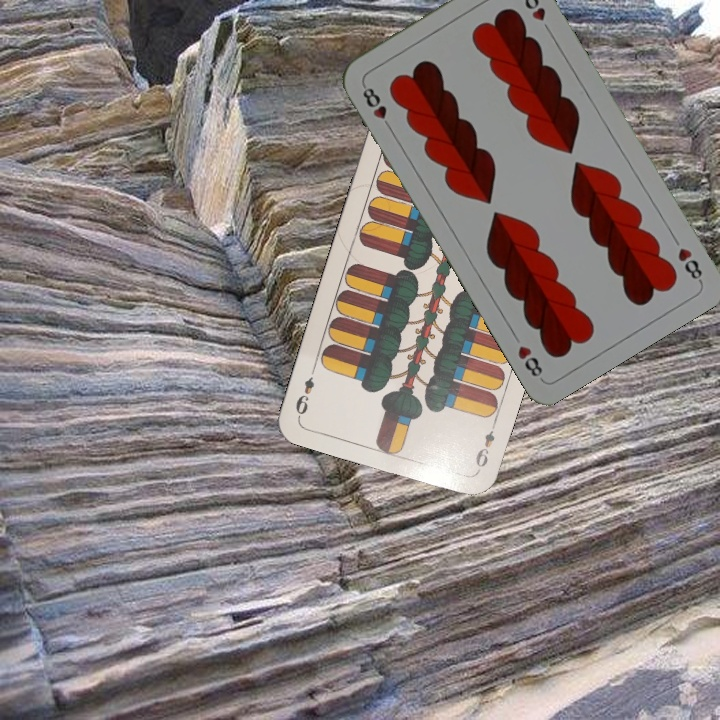E9: (471, 417, 499, 470)
H8: (358, 80, 395, 133), (673, 243, 705, 285)
